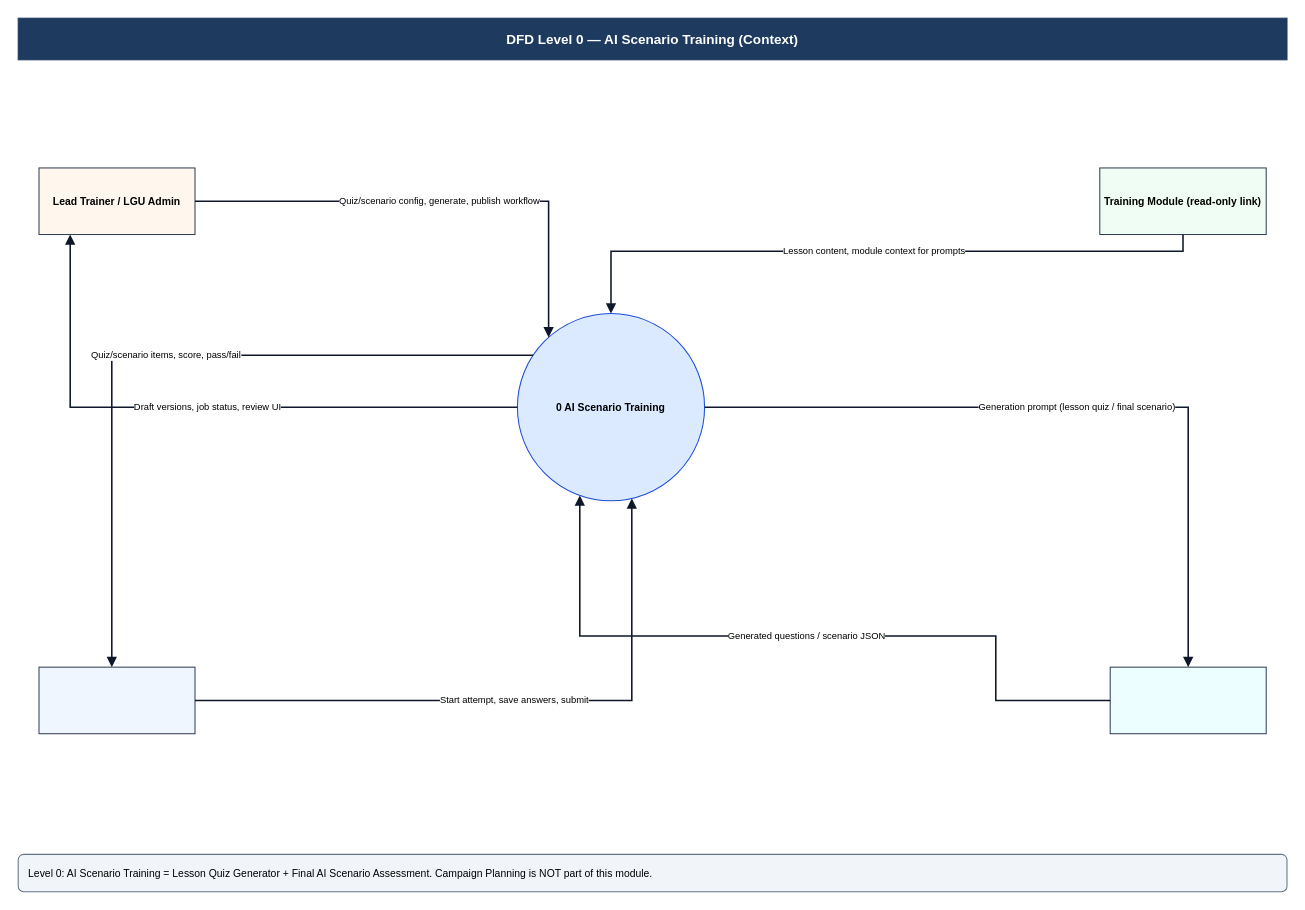
Some shapes in this 1305 by 910 pixel diagram are drawn without their labels. Each missing label, with the centre of its shape:
Google Gemini API: [1187,700]
Participant: [116,700]
